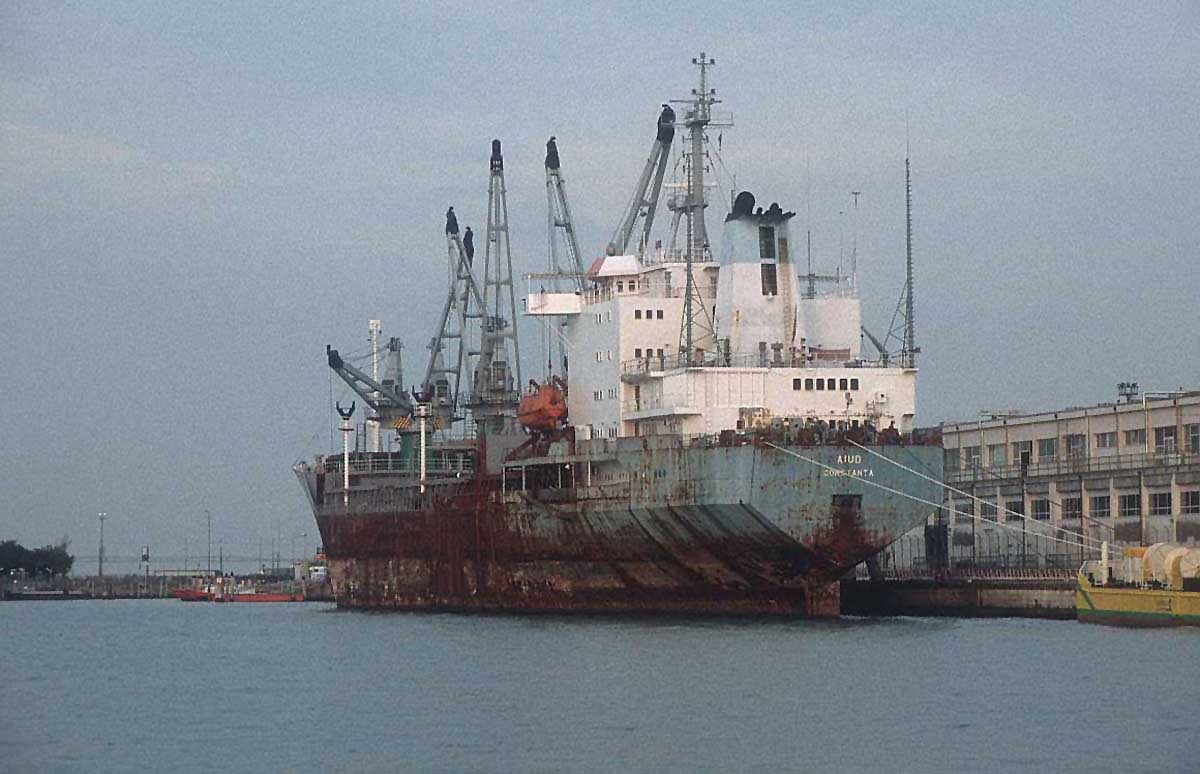rust: (331, 499, 532, 603)
